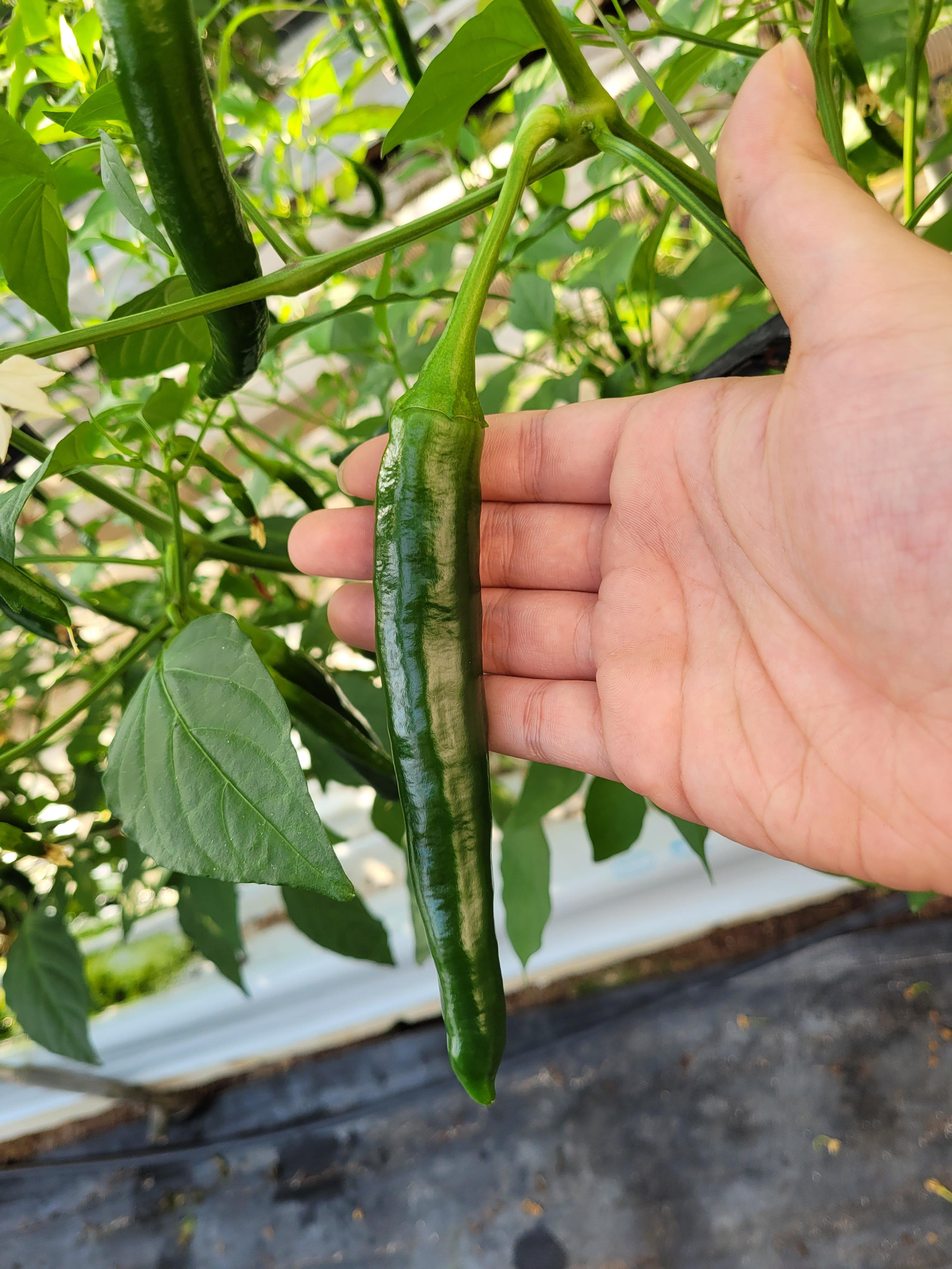Buah Cabai Sehat: (371, 346, 518, 1104), (104, 602, 358, 904), (92, 0, 276, 406)
